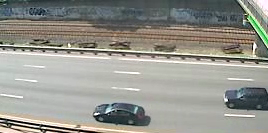car: (91, 99, 148, 127), (221, 85, 268, 113)
